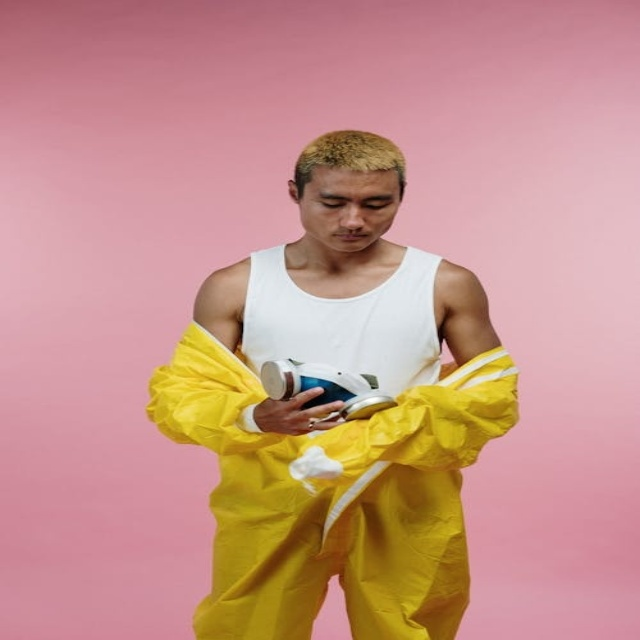Sin_gafas: (298, 189, 398, 213)
Sin_guantes: (252, 388, 346, 436)
Sin_mascara: (320, 226, 381, 249)
